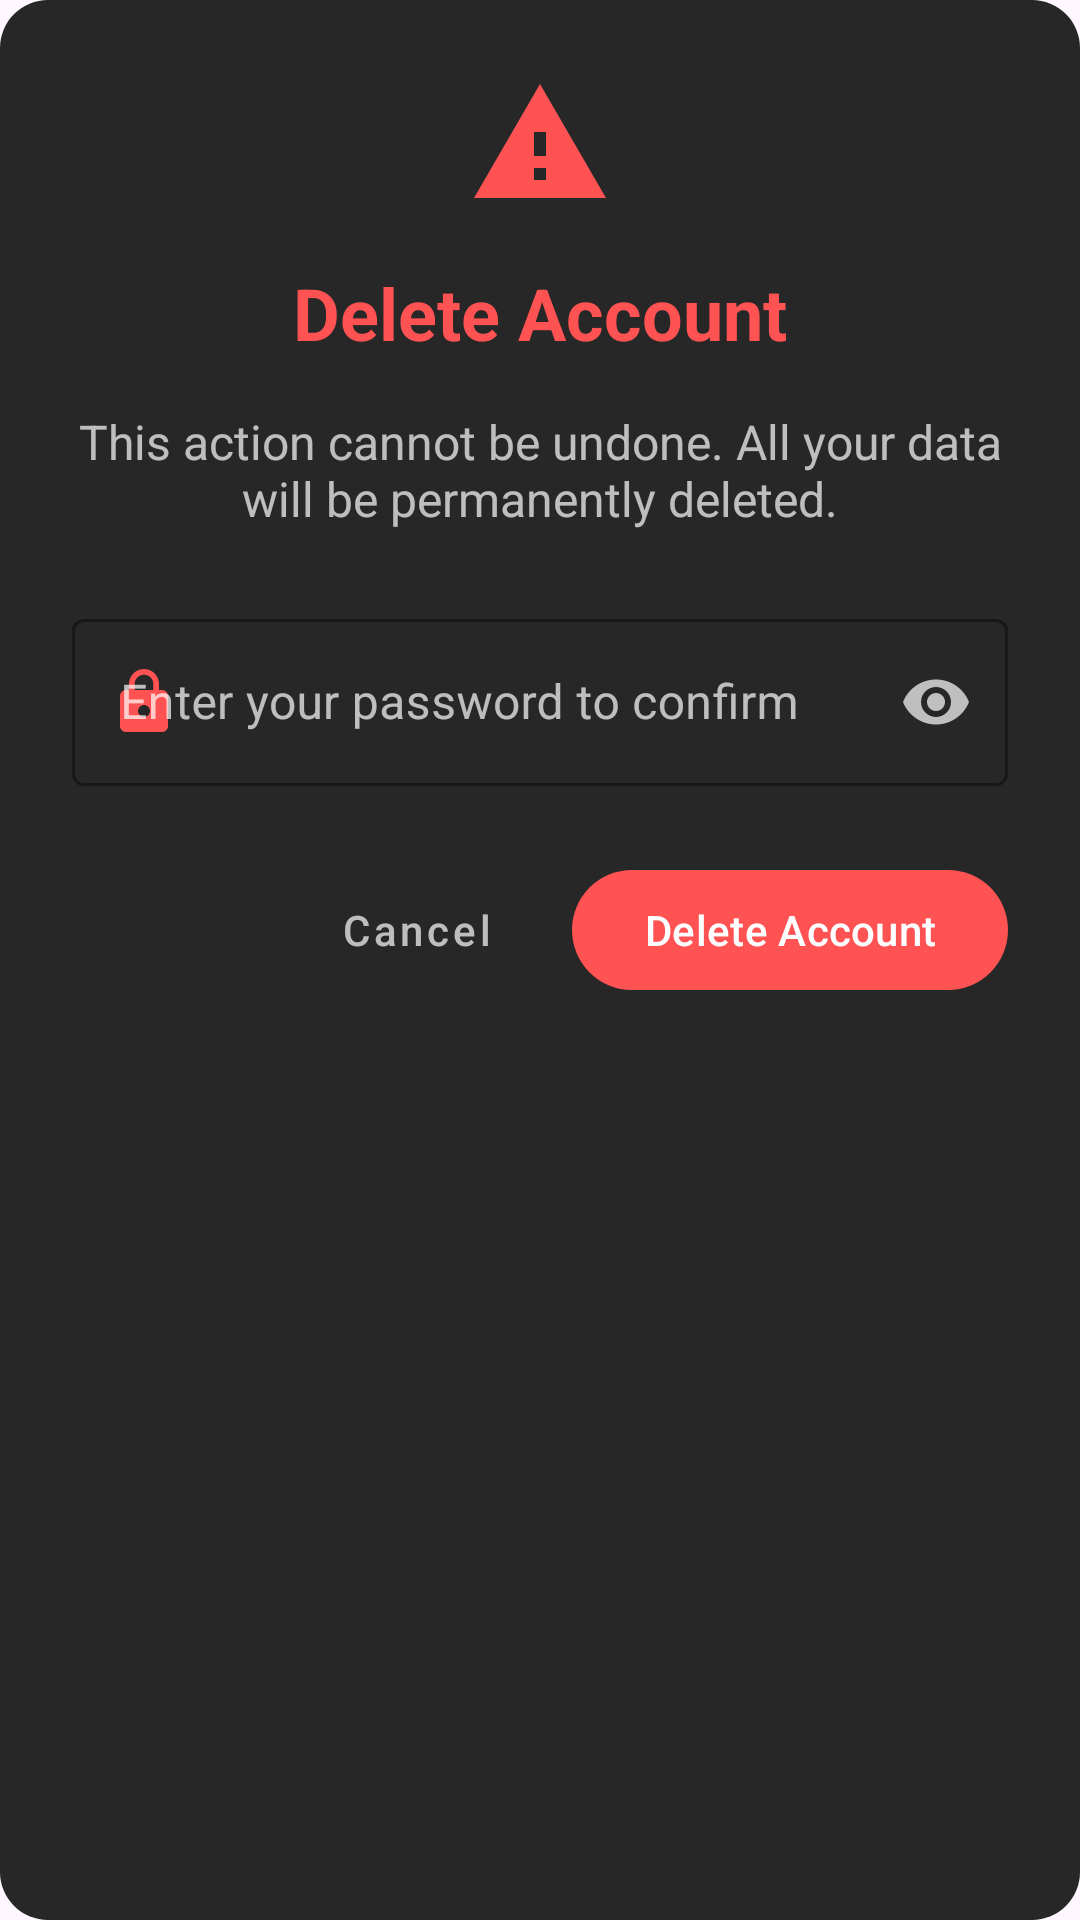

Locate icon controls on the screen. Image size 1080x1920, boxes as (x1, y1, x2, y2).
warning: (474, 84, 606, 198)
